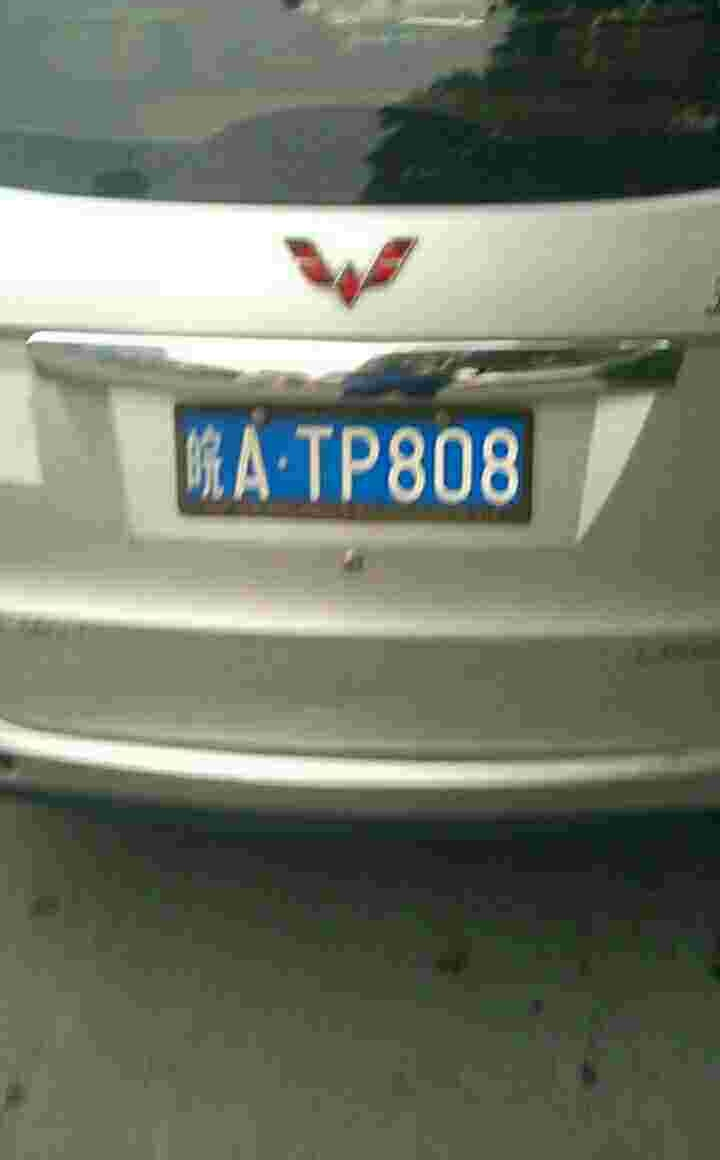license_plate: (193, 411, 532, 492)
